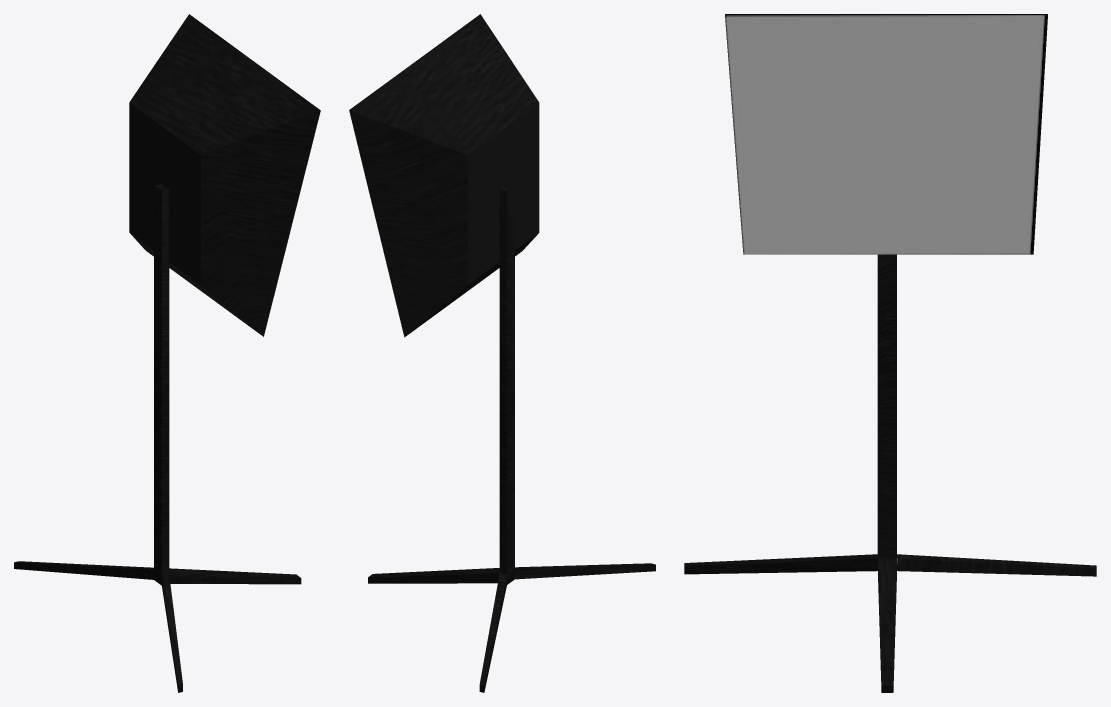
The model's file is Light2fbx.fbx.
3 views of the same model, side by side, from view 1: azimuth 30°, elevation 25°; view 2: azimuth 150°, elevation 25°; view 3: azimuth 270°, elevation 25° (orthographic). The views are drawn at different scales.
Visible parts, largest first — view 1: Cube; view 2: Cube; view 3: Cube.
Part boxes in pixels (x1,y1,x2,y2): Cube: (14,14,320,692); Cube: (349,14,655,692); Cube: (684,14,1096,692).
Size of the model in its own units: 240 by 600 by 343.
